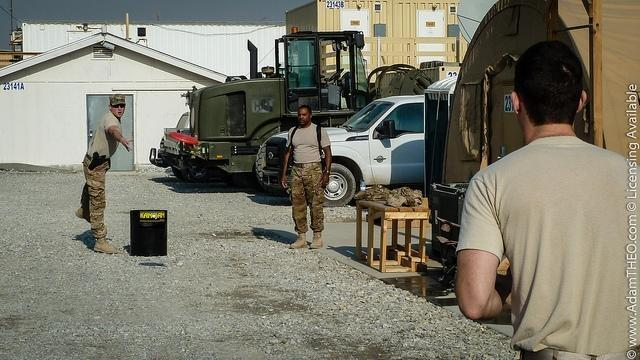truck: (169, 26, 464, 173), (252, 94, 428, 209)
